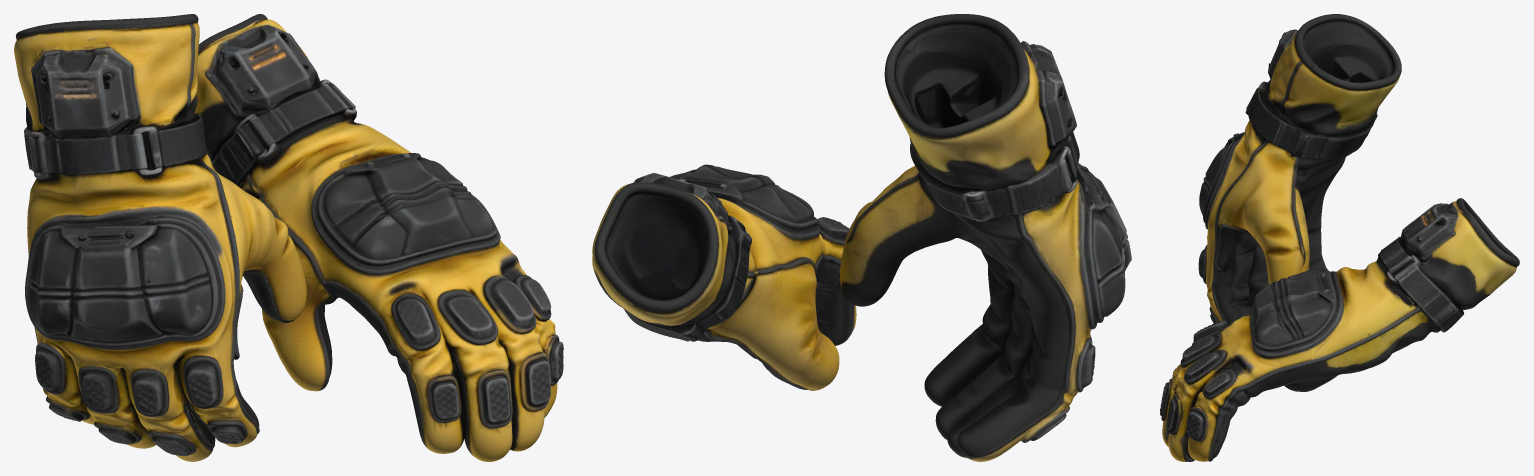
Rendered from guantes.glb.
The picture shows the model from 3 angles, left to right: view 1: azimuth 30°, elevation 25°; view 2: azimuth 150°, elevation 25°; view 3: azimuth 270°, elevation 25°; orthographic projection. The views are drawn at different scales.
Size of the model in its own units: 1.9 by 1.71 by 1.71.
1 material, 1 textured.
